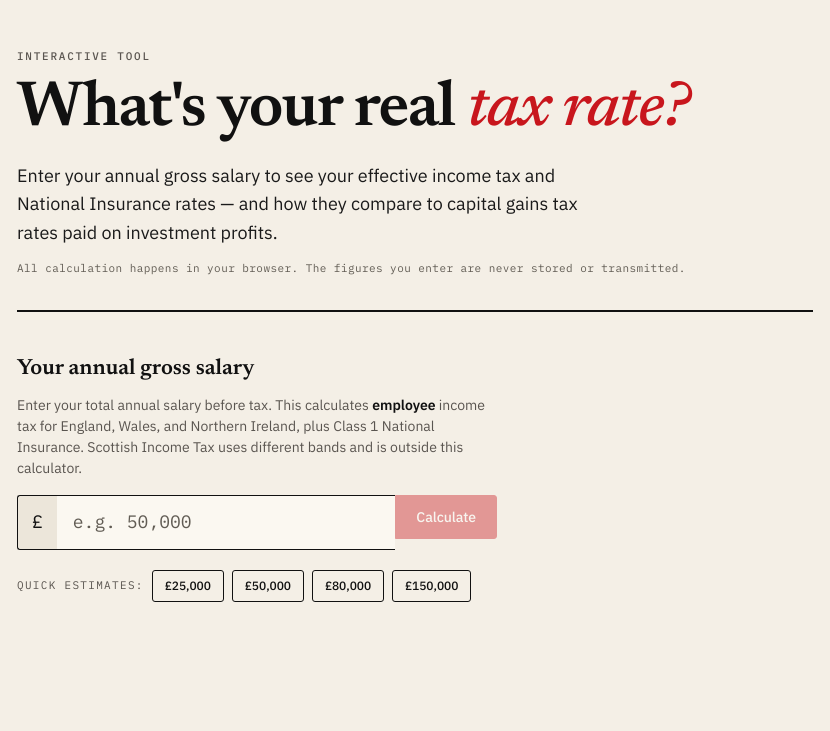
Test case: TaxCalculator › shows capital gains comparison
This screenshot has width=830, height=731.
Type "80000" into the field with id "salary-input" at coordinates (226, 522), box x1=57 y1=495 x2=395 y2=550
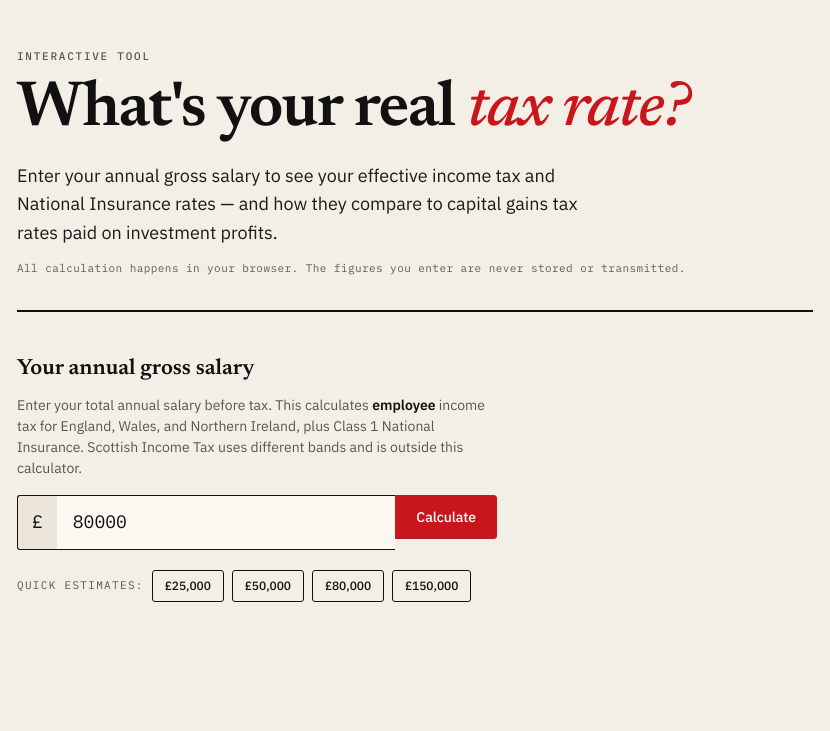
Click the button with class "calc__btn" at coordinates (446, 517), box x1=395 y1=495 x2=497 y2=539
(page scrolled)
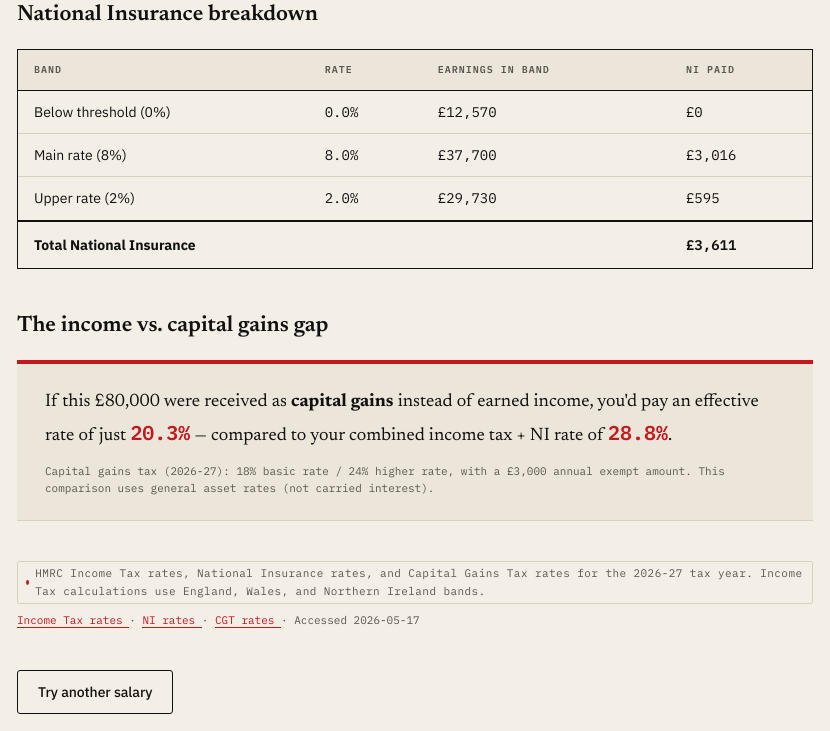
Check: the element with class "calc__comparison" is shown, box x1=17 y1=309 x2=813 y2=521
Check: the element with class "calc__comparison-text" shows "capital gains", box x1=291 y1=393 x2=394 y2=411
Check: the text with class "calc__comparison-note" shows "2026-27", box x1=45 y1=464 x2=725 y2=494
